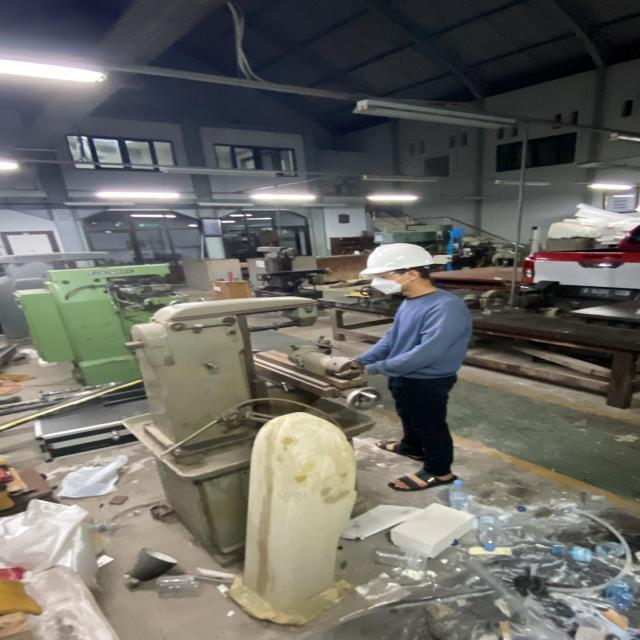glasses: (368, 268, 413, 282)
